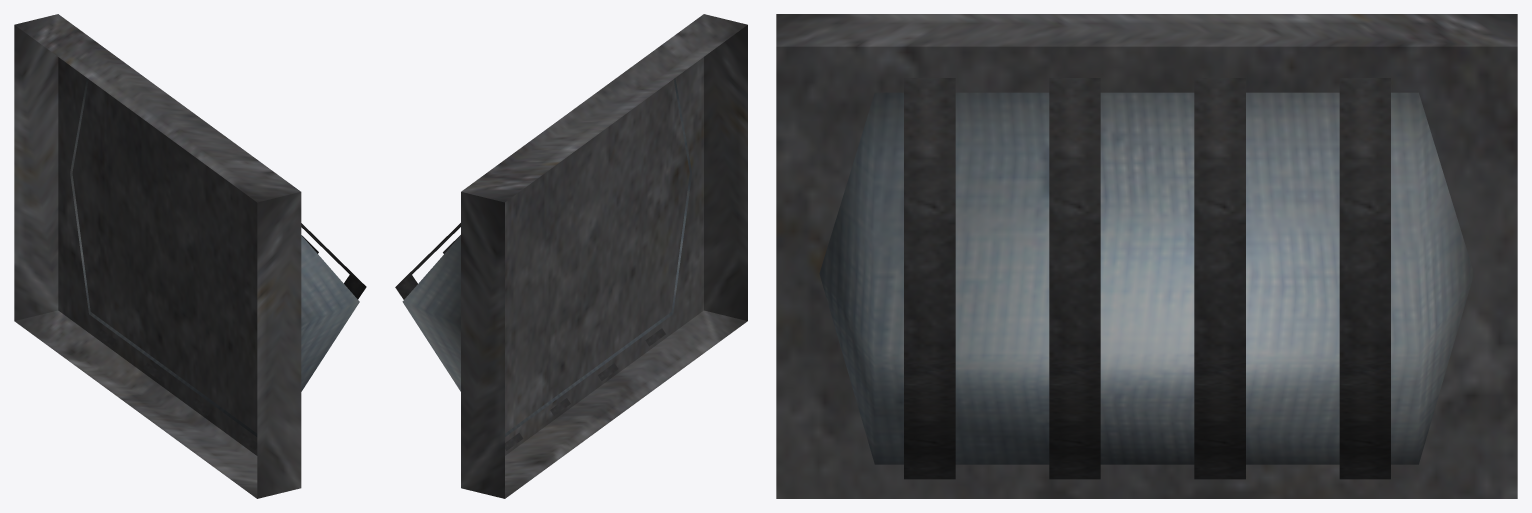
Rendered from deng.FBX.
3 views of the same model, side by side, from view 1: azimuth 30°, elevation 25°; view 2: azimuth 150°, elevation 25°; view 3: azimuth 270°, elevation 25° (orthographic). The views are drawn at different scales.
Parts seen in each view (by area): view 1: polySurface180; view 2: polySurface180; view 3: polySurface180.
Boxes of the visible parts, left/top/right/bottom form: polySurface180: left=14, top=14, right=366, bottom=498; polySurface180: left=395, top=14, right=747, bottom=498; polySurface180: left=776, top=14, right=1517, bottom=498.
Size of the model in its own units: 0.2458 by 0.46 by 0.6832.
